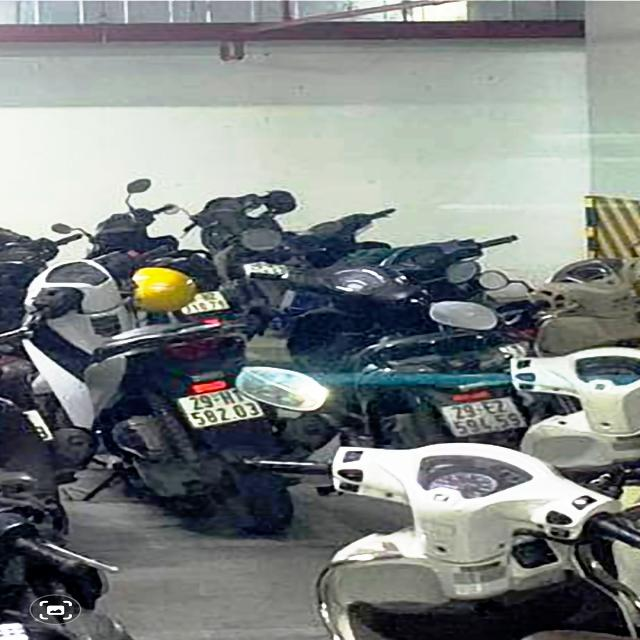license_plate: (176, 385, 269, 430), (442, 397, 531, 441)
